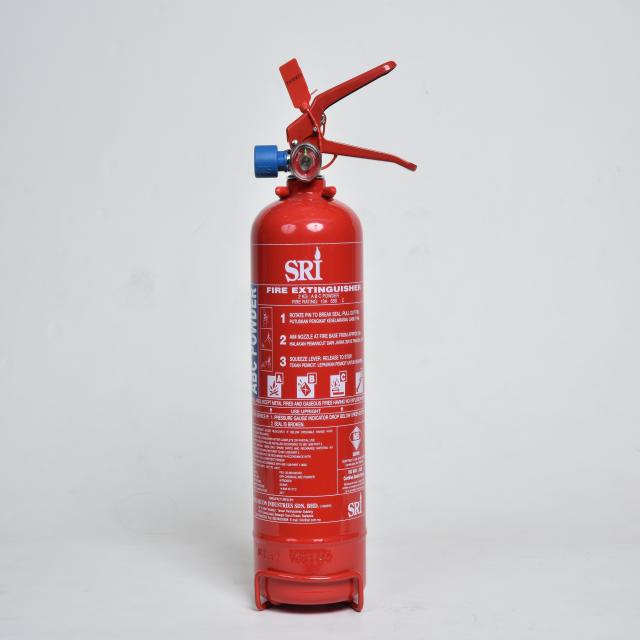fire_extinguisher: (247, 53, 421, 614)
